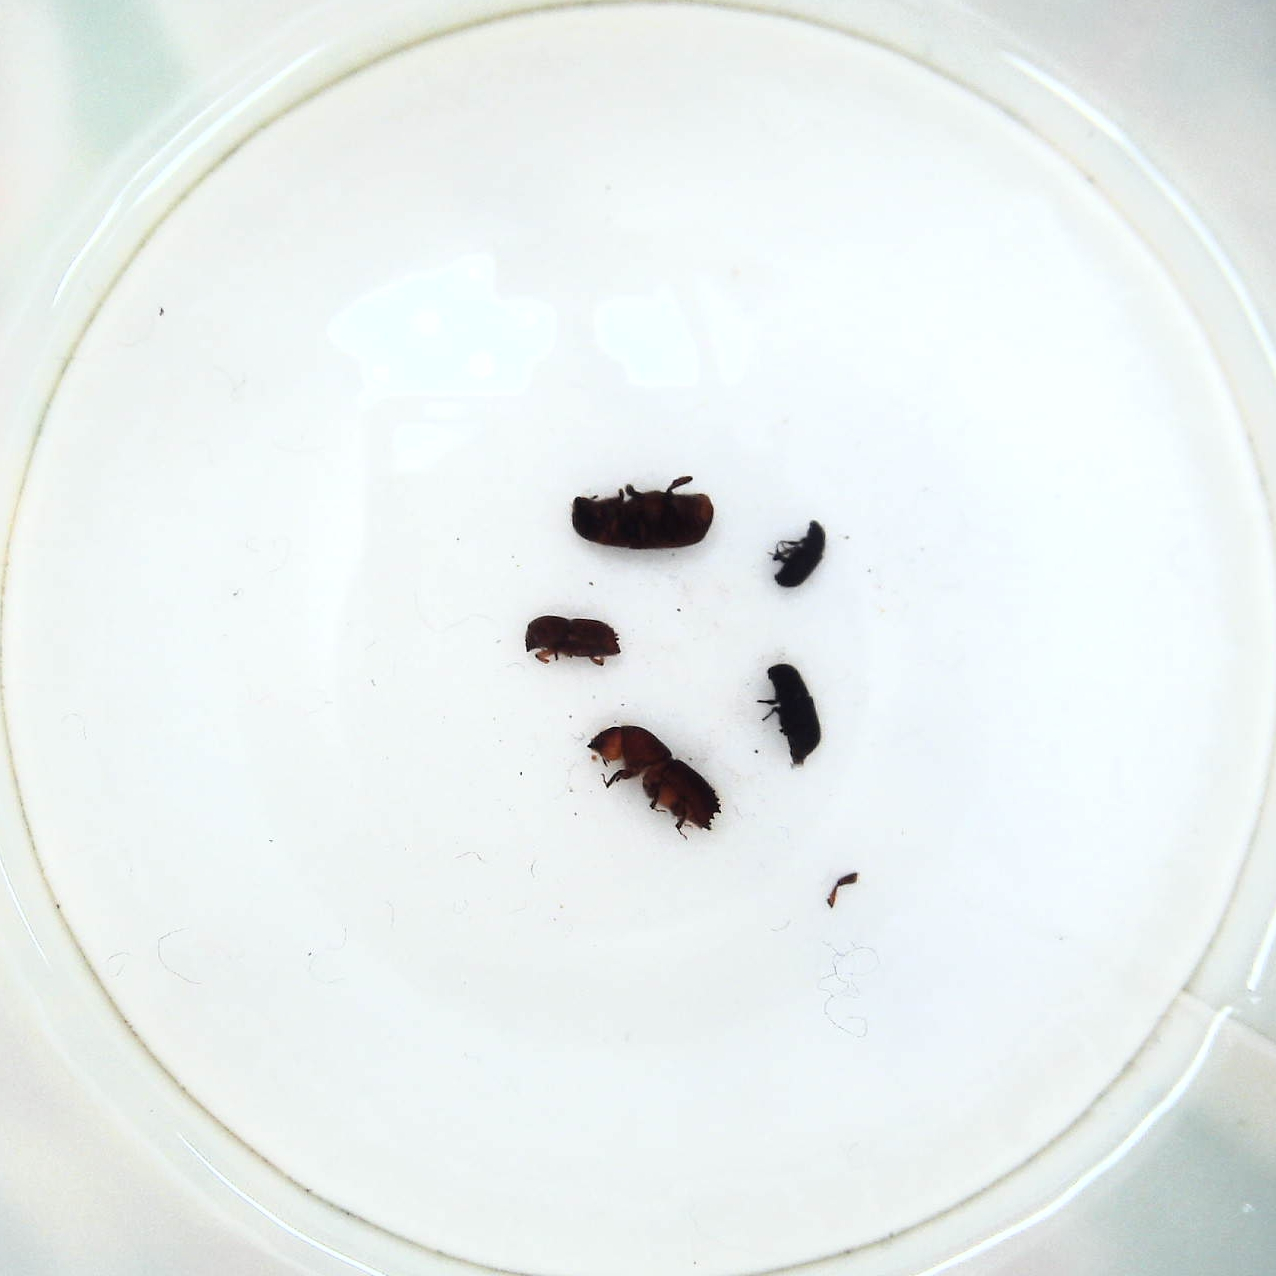Boerner: (588, 723, 729, 842)
Leconte: (568, 469, 717, 559)
armandi: (749, 659, 828, 771)
coleoptera: (763, 513, 831, 596)
linnaeus: (519, 610, 629, 674)
